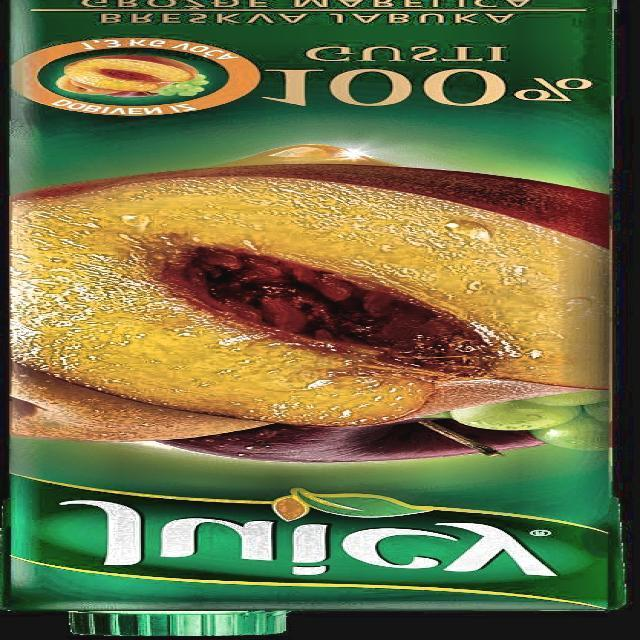cardboard: (2, 0, 620, 637)
